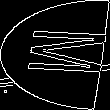M_E: (4, 30, 106, 80)
